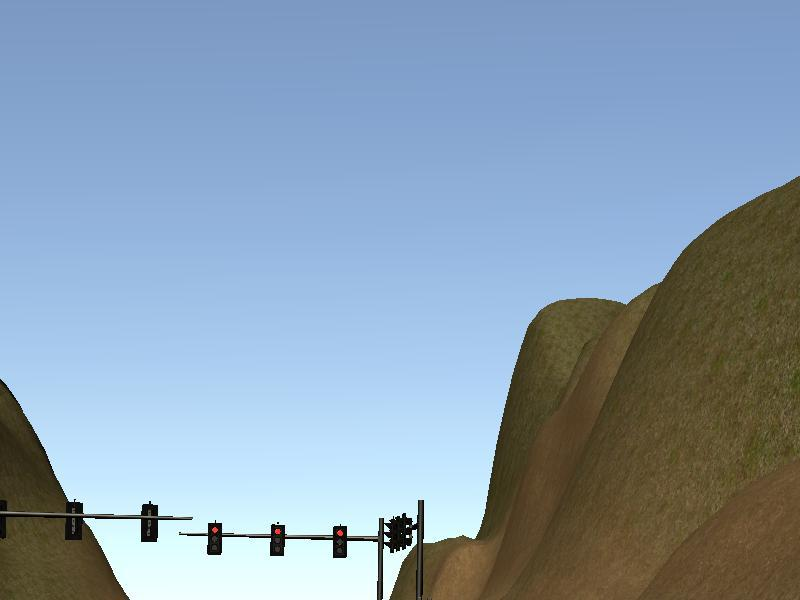Red: (332, 526, 346, 558), (270, 524, 284, 555), (208, 522, 221, 555)
